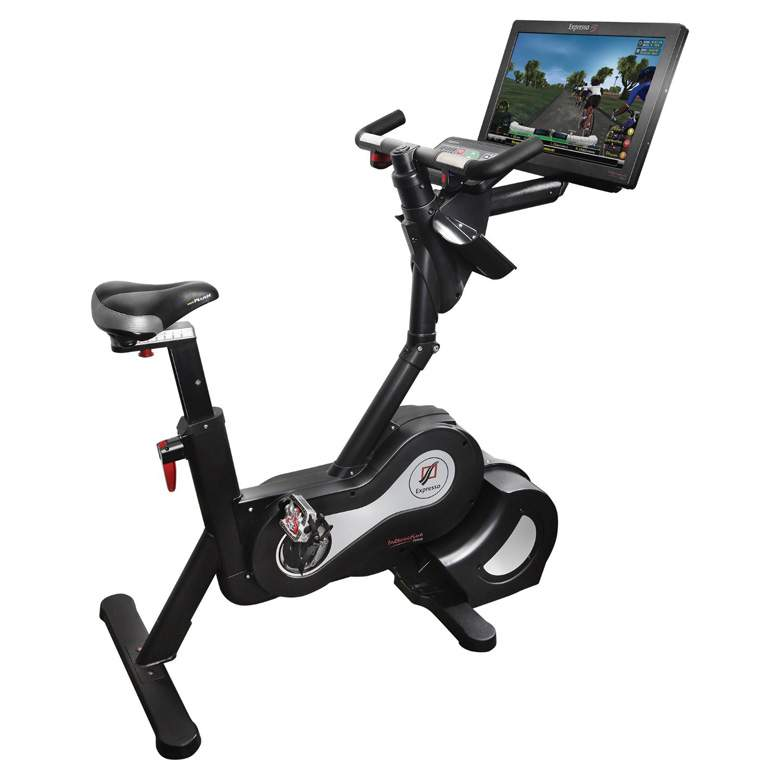gym_bike: (80, 20, 678, 758)
